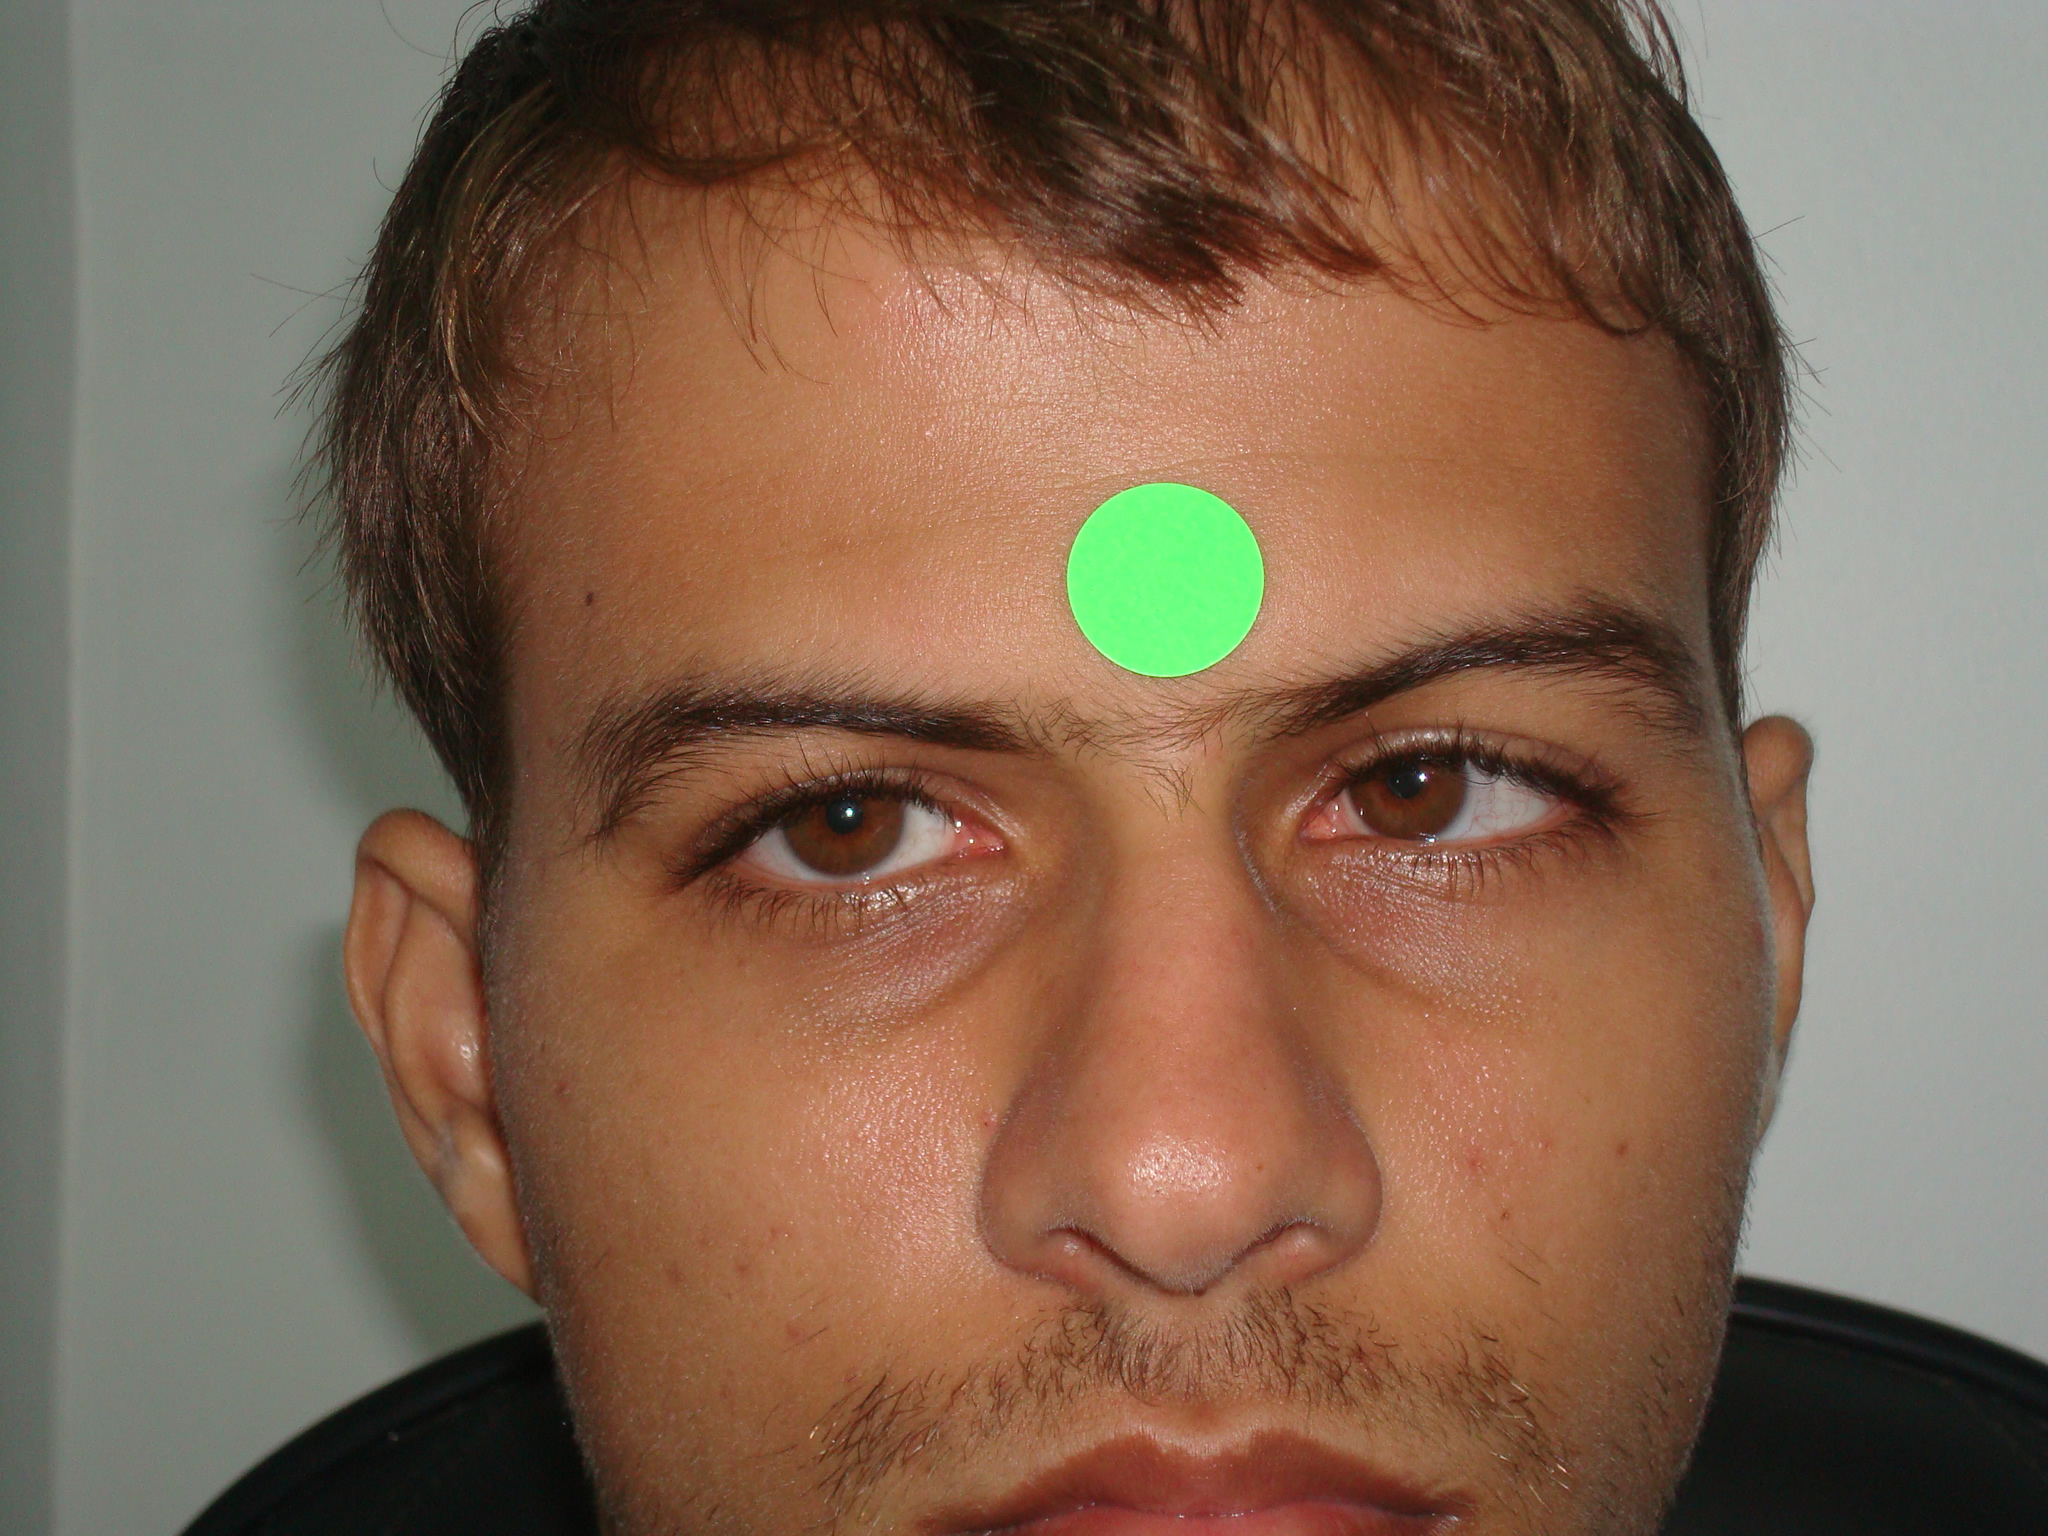flash: (839, 800, 861, 823), (1413, 768, 1432, 787)
limbo: (777, 762, 910, 866), (1343, 724, 1467, 831)
